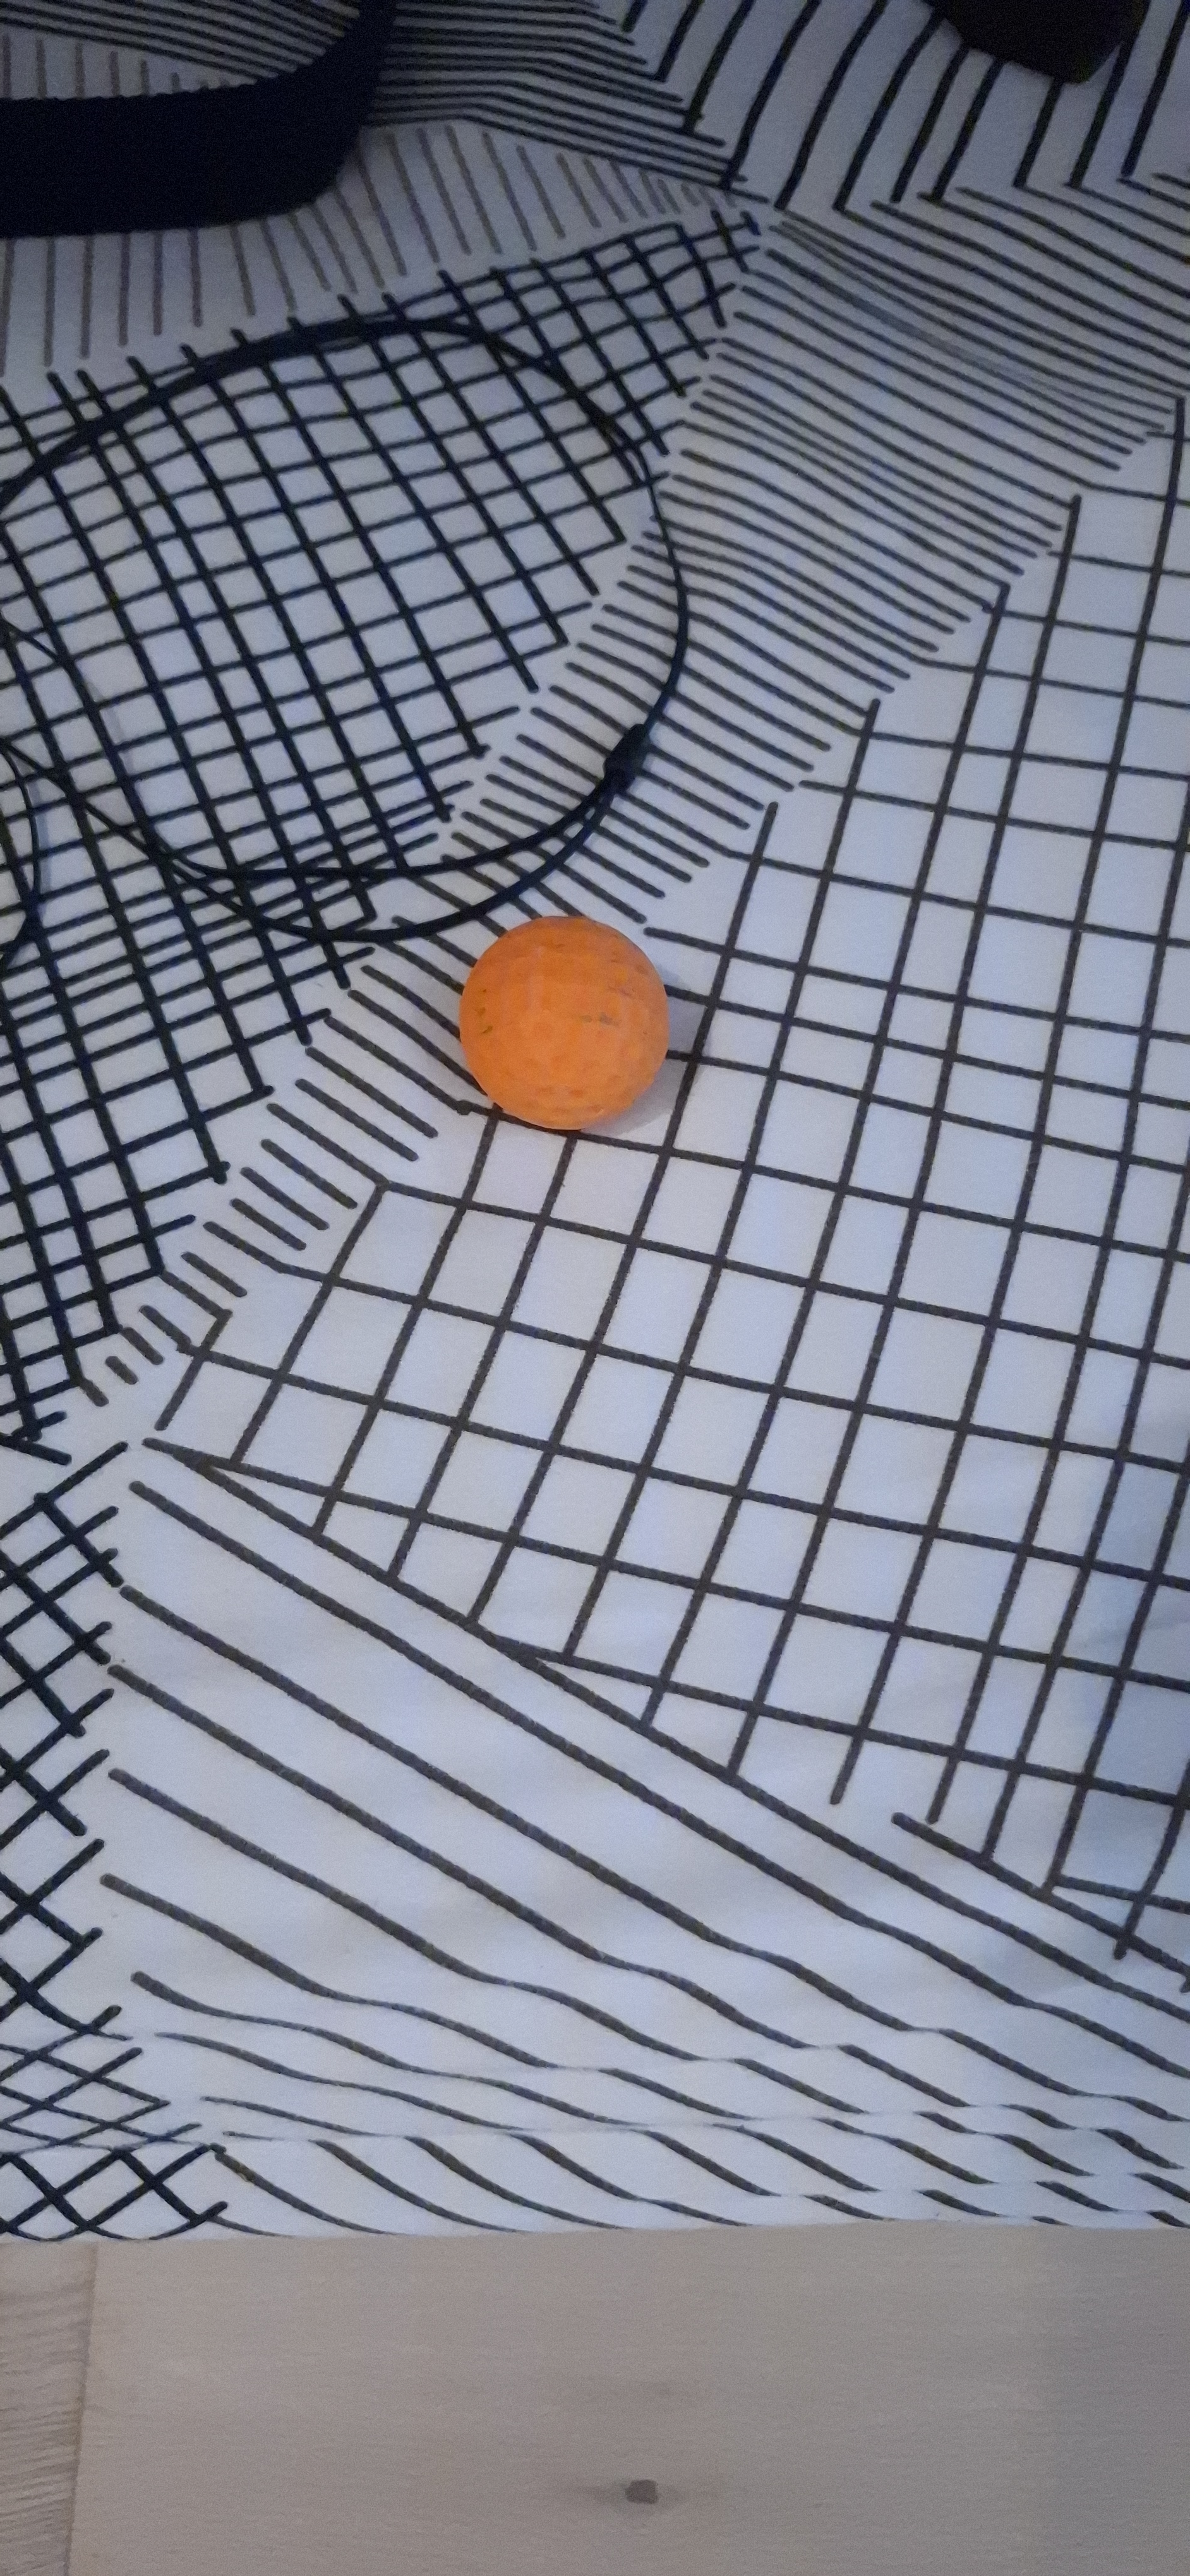ball: (424, 1124, 523, 1575)
